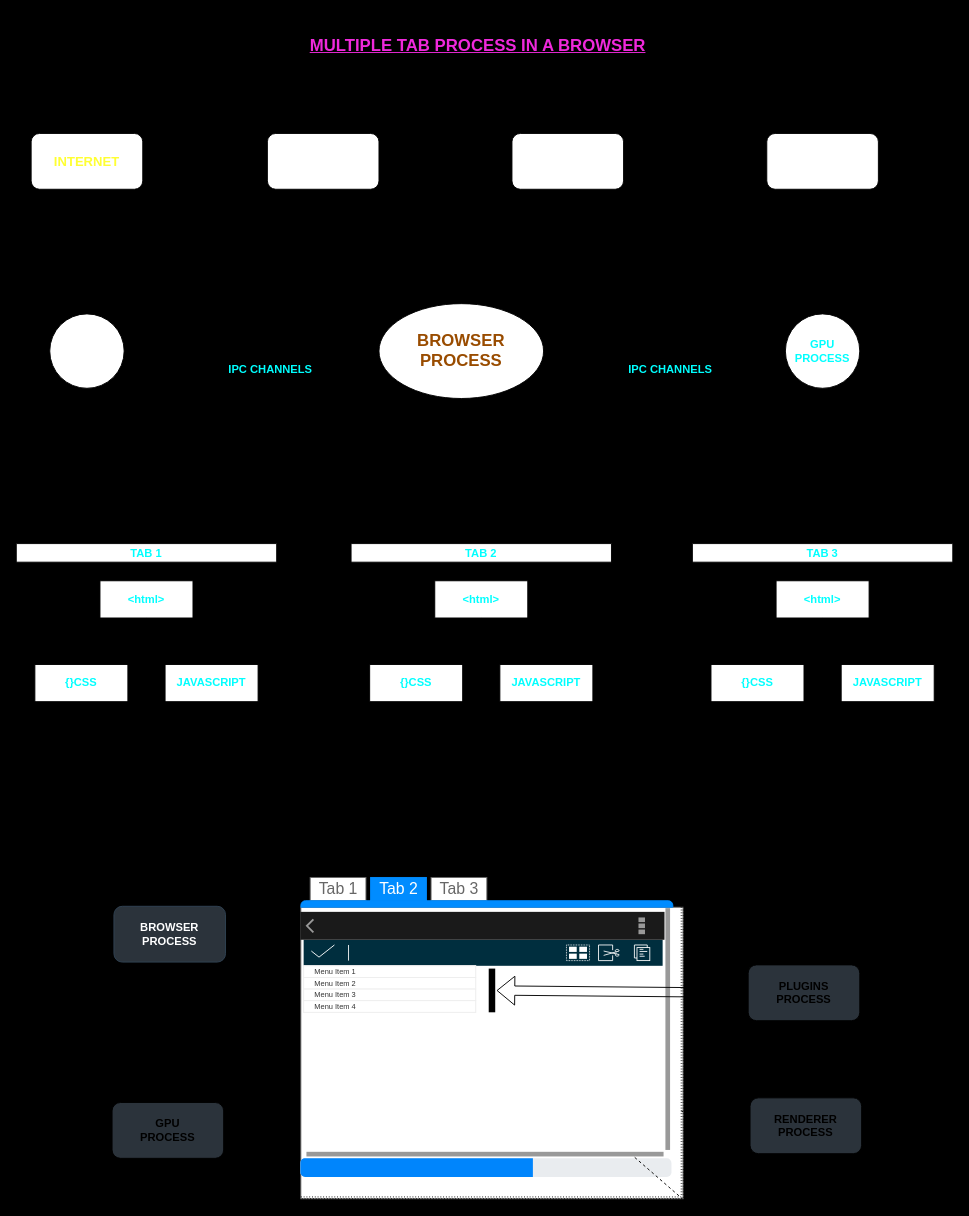
Some shapes in this 969 by 1216 pixel diagram are drawn without their labels. Each missing label, with the centre of its shape:
Action: the point at 404,952
FILE SYSTEM: the point at 322,161
GRAPHICS: the point at 822,161
INPUT: the point at 567,161
NETWORK PROCESS: the point at 86,350
